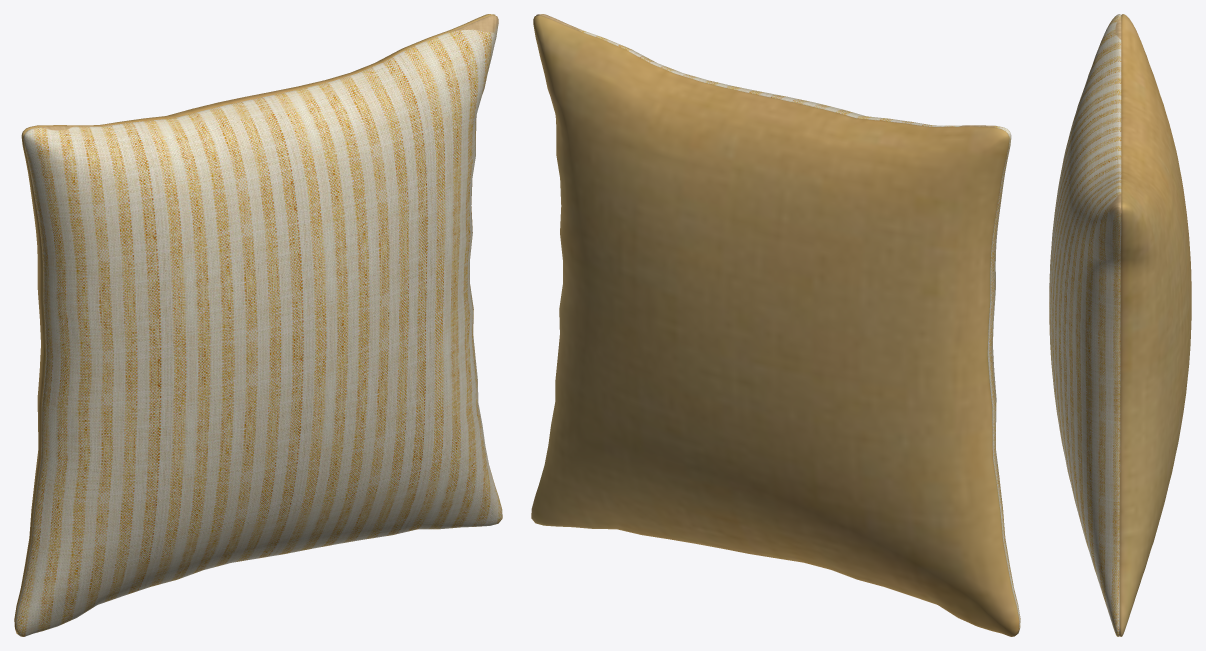
Rendered from candidate.glb.
3 renders of one model, left to right at view 1: azimuth 30°, elevation 25°; view 2: azimuth 150°, elevation 25°; view 3: azimuth 270°, elevation 25°, orthographic. The views are drawn at different scales.
Parts seen in each view (by area): view 1: RootNode; view 2: RootNode; view 3: RootNode.
Part boxes in pixels (x1,y1,x2,y2): RootNode: (14,14,502,636); RootNode: (531,14,1020,636); RootNode: (1049,14,1191,636).
Bounding box in the file's own units: 0.4 × 0.4 × 0.12.
Materials: 1 (1 with a texture image).
